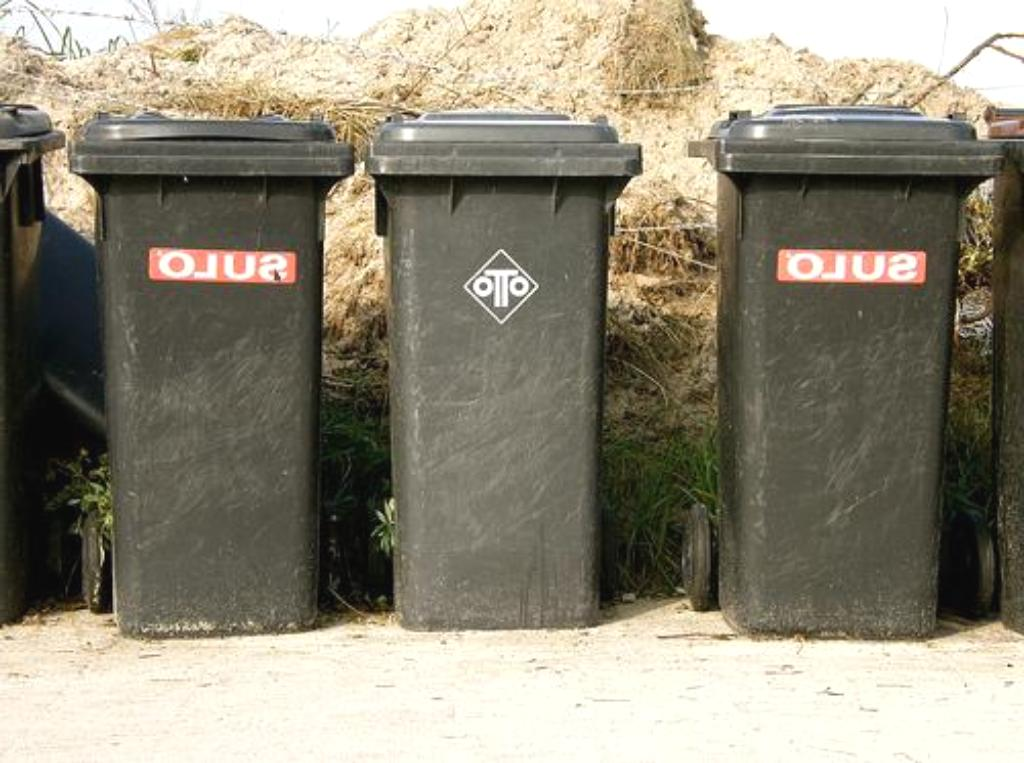dustbin: (670, 98, 983, 641), (348, 103, 642, 649), (69, 110, 351, 628)
